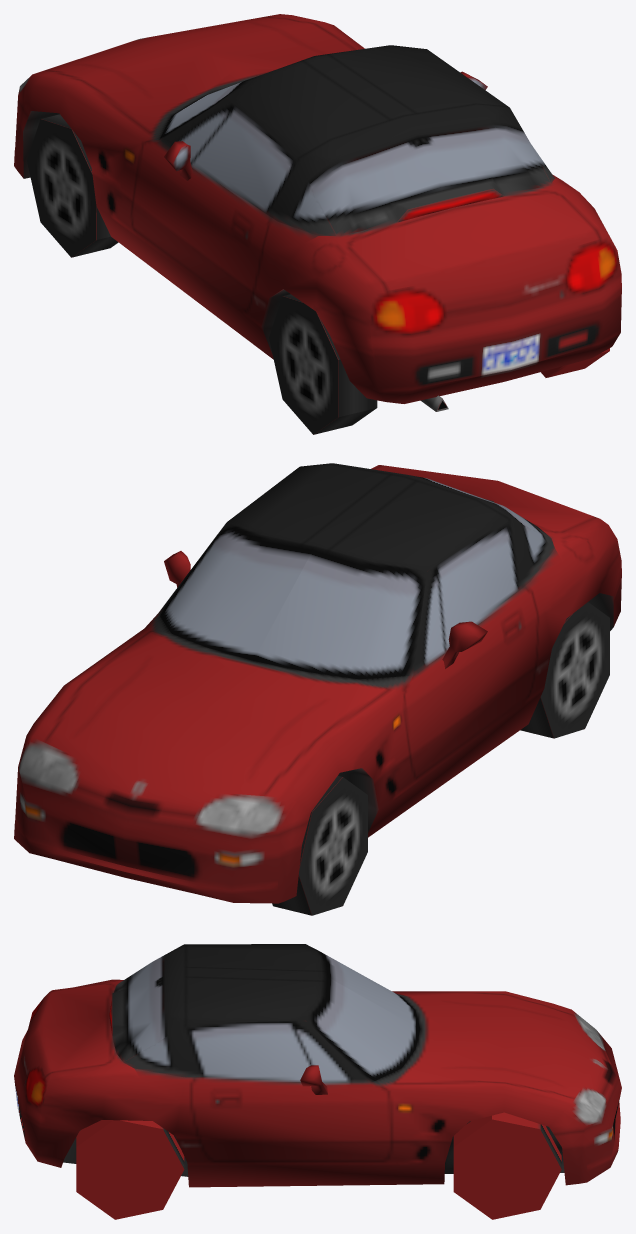
File: fhqDiecast18SuzCap.fbx
3 views of the same model, one above another, from view 1: azimuth 30°, elevation 25°; view 2: azimuth 150°, elevation 25°; view 3: azimuth 270°, elevation 25° (orthographic). The views are drawn at different scales.
Parts seen in each view (by area): view 1: fhqsuzcap; view 2: fhqsuzcap; view 3: fhqsuzcap.
Boxes of the visible parts, x1,y1,x2,y2 form: fhqsuzcap: (14, 14, 621, 434); fhqsuzcap: (14, 463, 621, 915); fhqsuzcap: (14, 944, 621, 1219).
Size of the model in its own units: 0.1876 by 0.1438 by 0.4023.
